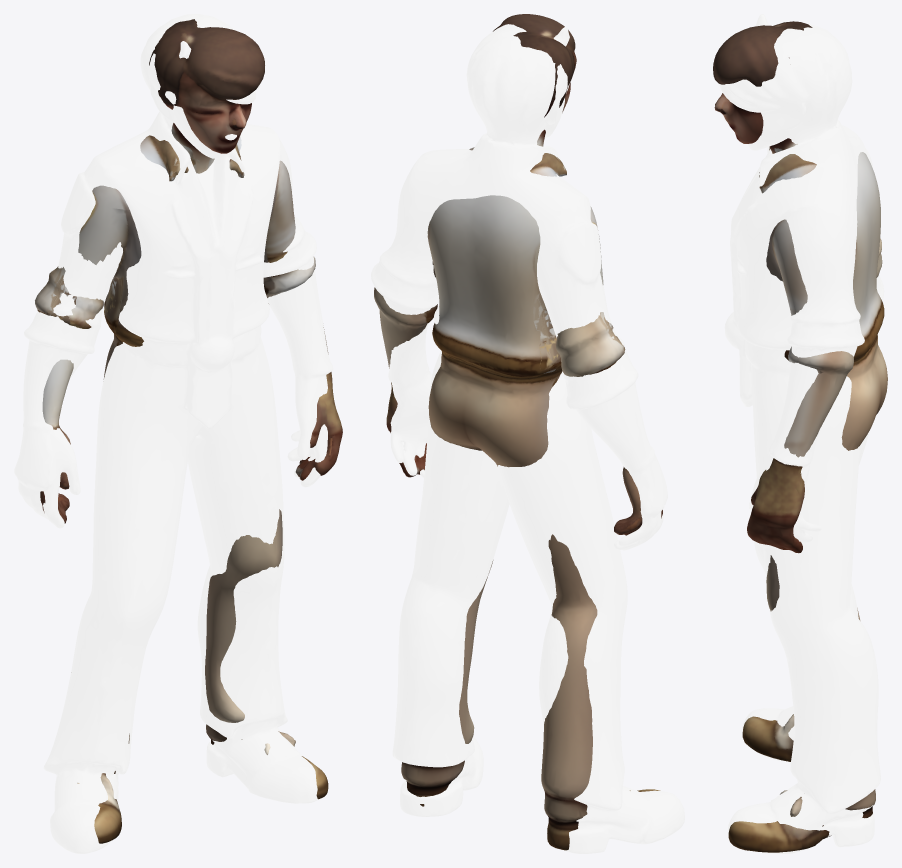
Rendered from priest_wrapped.glb.
The picture shows the model from 3 angles, left to right: view 1: azimuth 30°, elevation 25°; view 2: azimuth 150°, elevation 25°; view 3: azimuth 270°, elevation 25°; orthographic projection.
Visible parts, largest first — view 1: Outfit, Body; view 2: Outfit, Body; view 3: Outfit, Body.
Boxes of the visible parts, x1=… form: Outfit: x1=14, y1=14, x2=333, y2=853; Body: x1=35, y1=19, x2=342, y2=843; Outfit: x1=371, y1=24, x2=684, y2=853; Body: x1=374, y1=14, x2=662, y2=850; Outfit: x1=719, y1=14, x2=884, y2=853; Body: x1=713, y1=21, x2=887, y2=852.
Size of the model in its own units: 0.7364 by 1.86 by 0.3788.
Materials: 2 (1 with a texture image).
